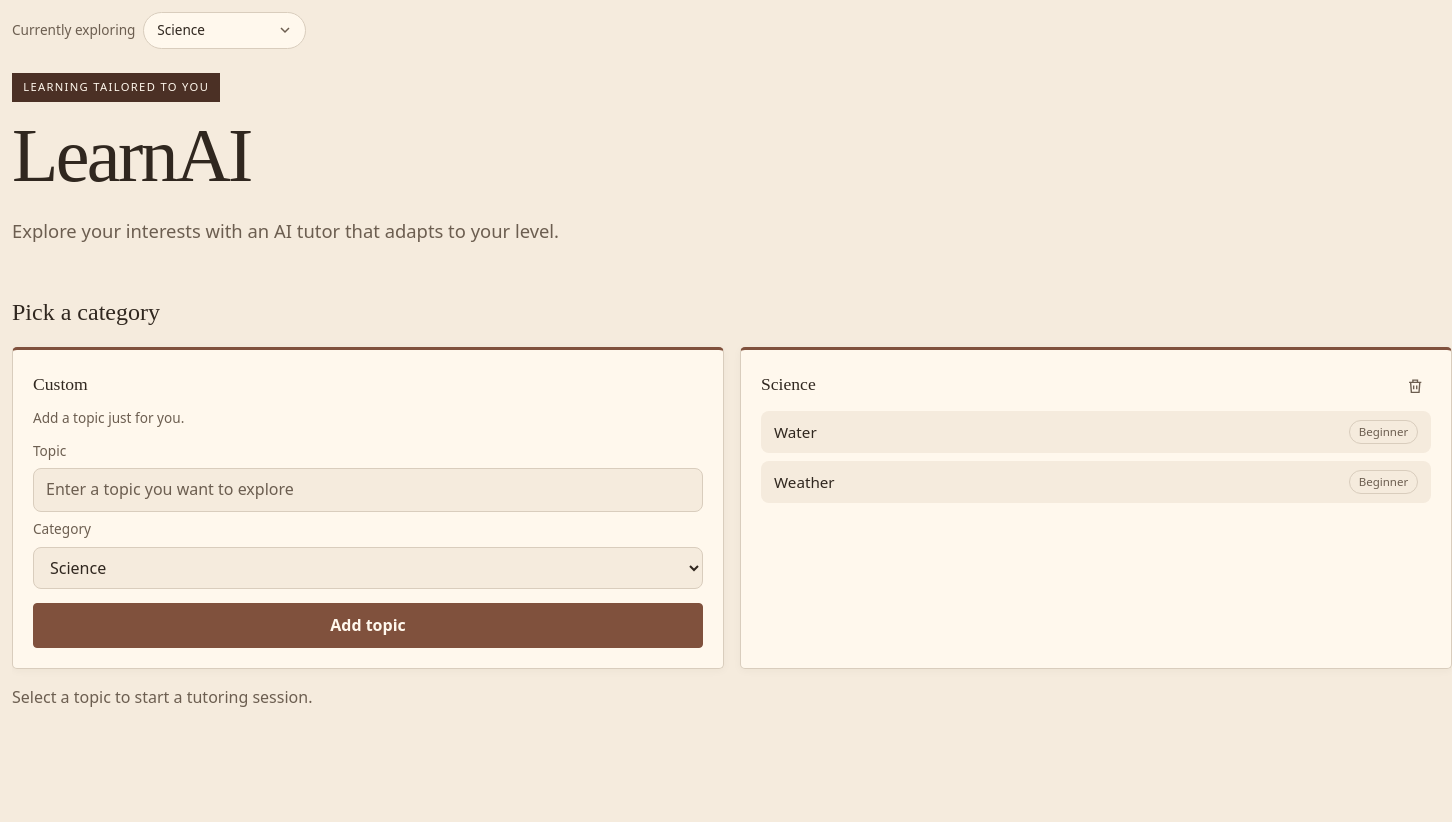
it: adds a note icon after the first successful save without reloading the plan
Click the button "Water Beginner" at (795, 432), box left=761, top=411, right=1431, bottom=453
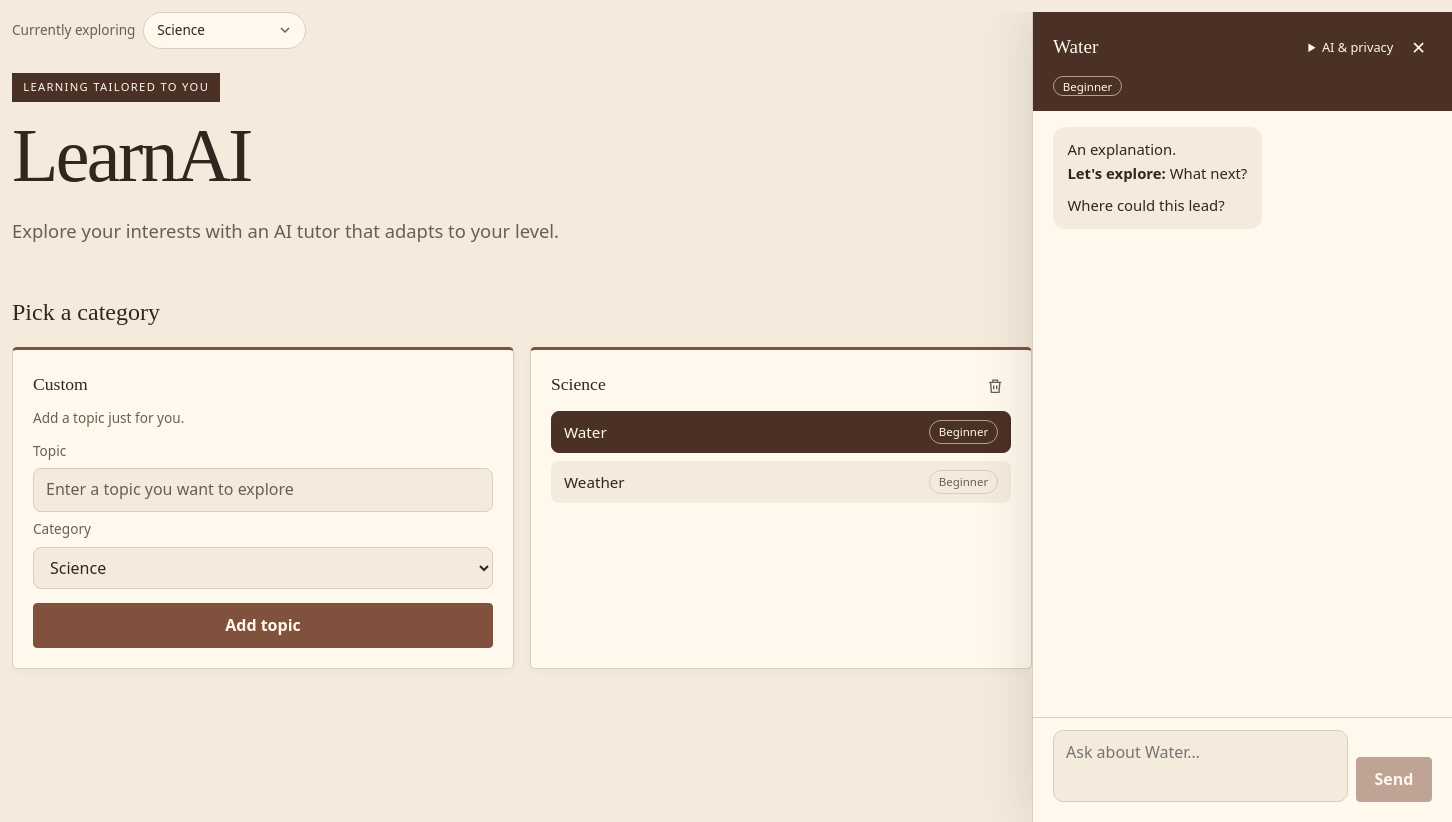
Expected: the text "An explanation." is shown, left=1067, top=139, right=1176, bottom=159
Type "How does evaporation work?" into the text box with placeholder "Ask about Water…" at (1200, 766), box left=1053, top=730, right=1348, bottom=802
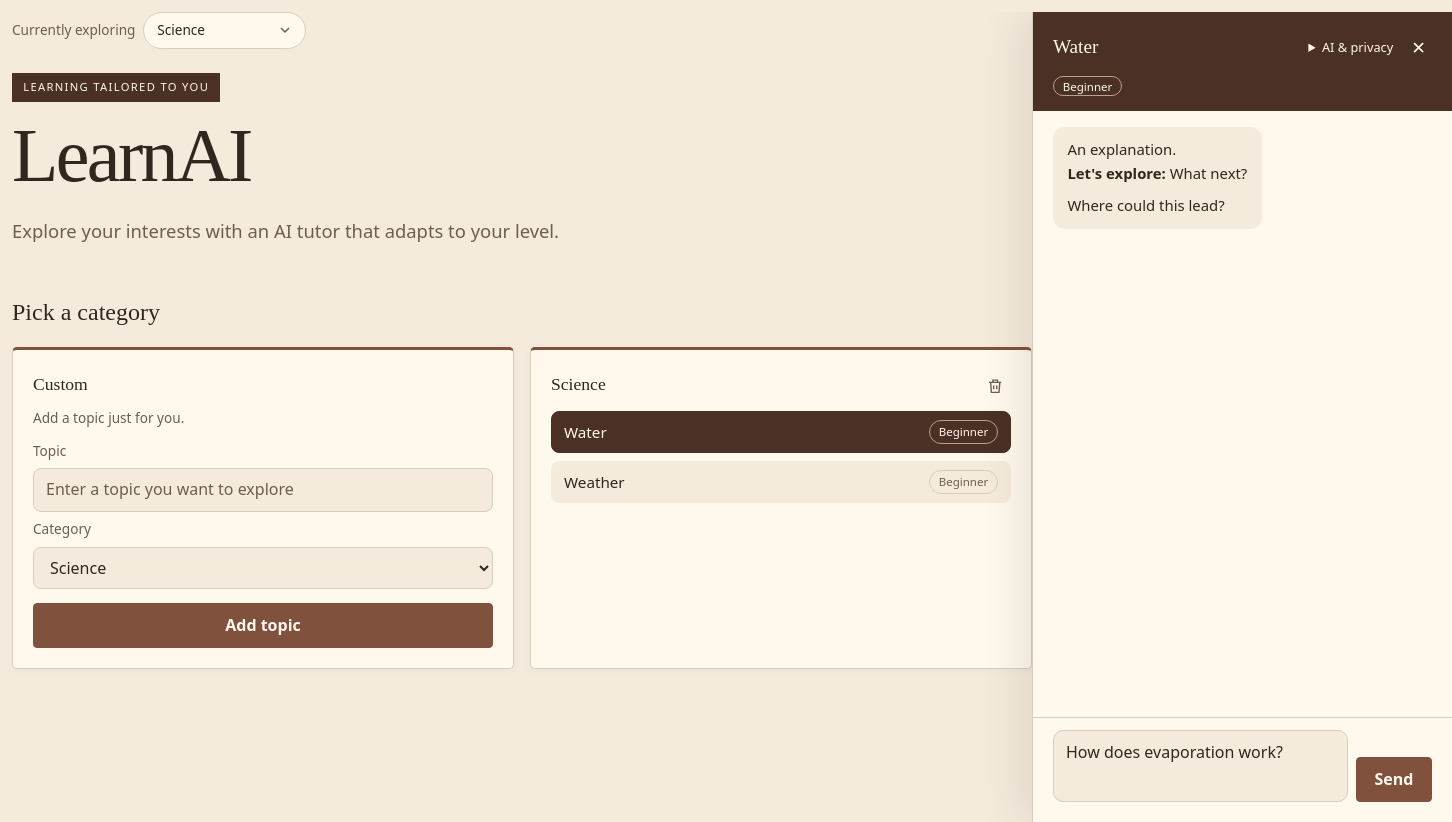
Click the button "Send" at (1394, 779), box left=1356, top=757, right=1432, bottom=802
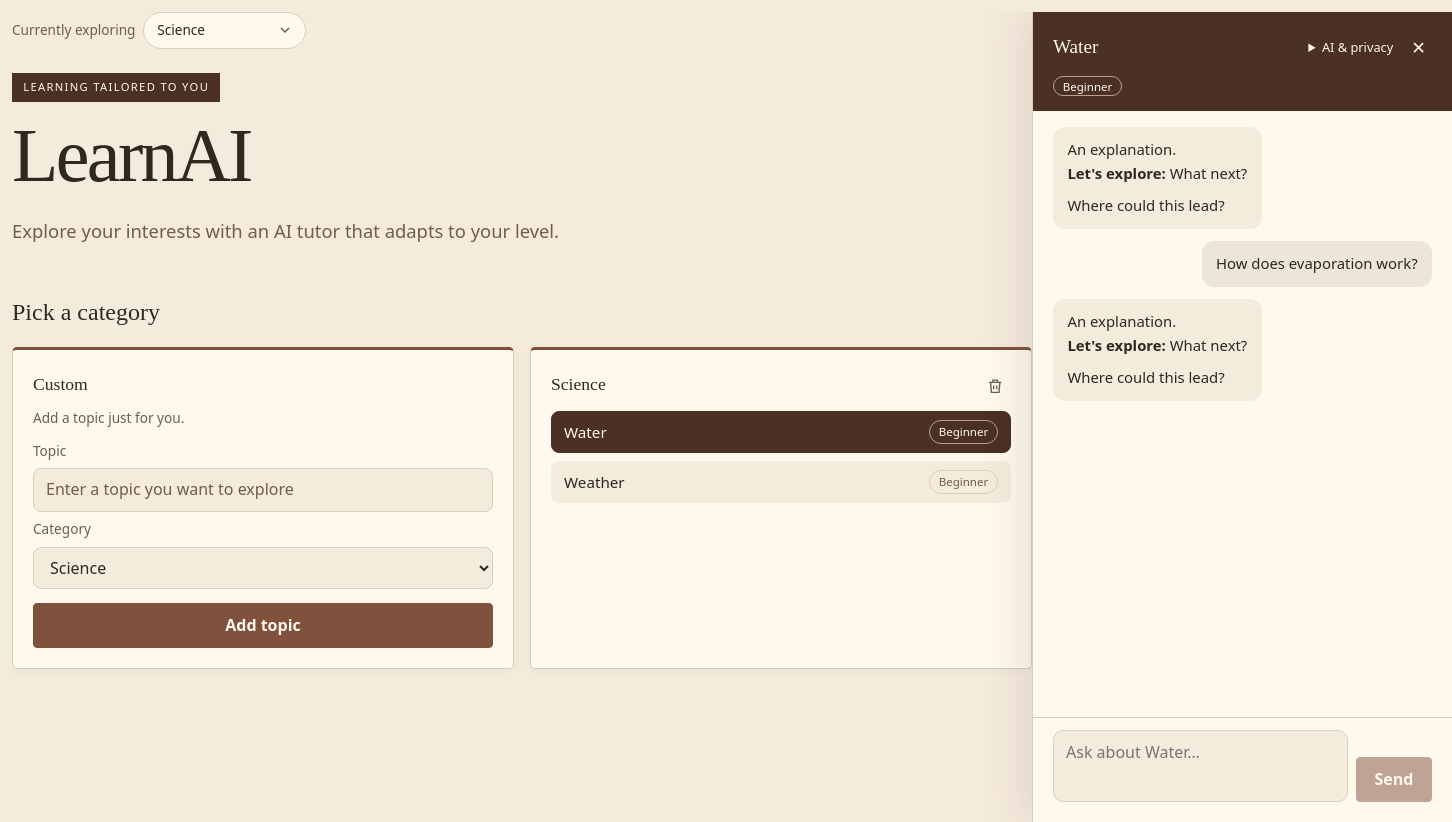
Expected: the text "An explanation." is shown 2 times, left=1067, top=139, right=1176, bottom=159; left=1067, top=311, right=1176, bottom=331
Click the button named "Close tutor" at (1419, 47), box left=1405, top=32, right=1432, bottom=62
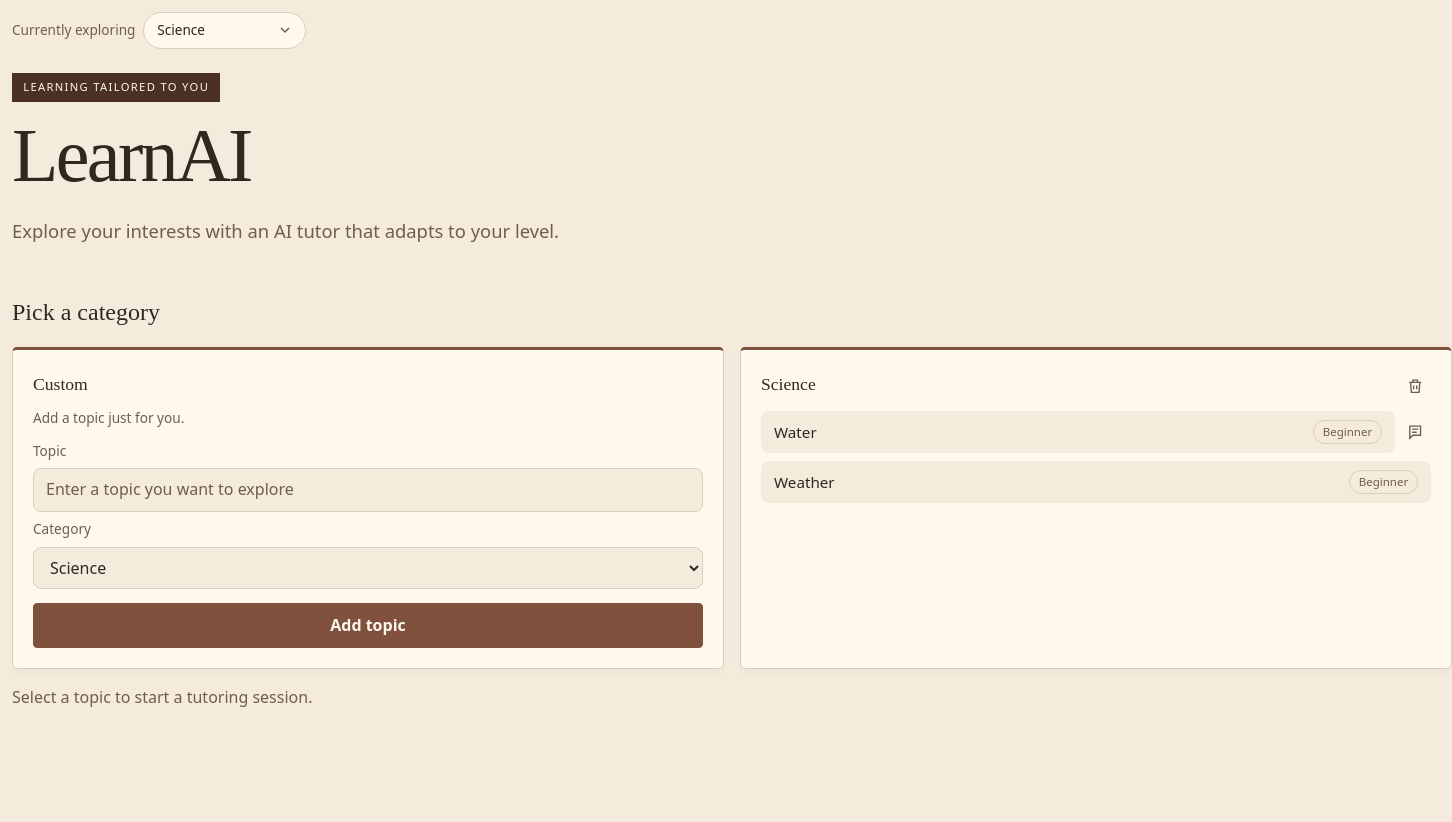
Expected: the button named "Notes for Water" is shown, left=1399, top=416, right=1431, bottom=448
